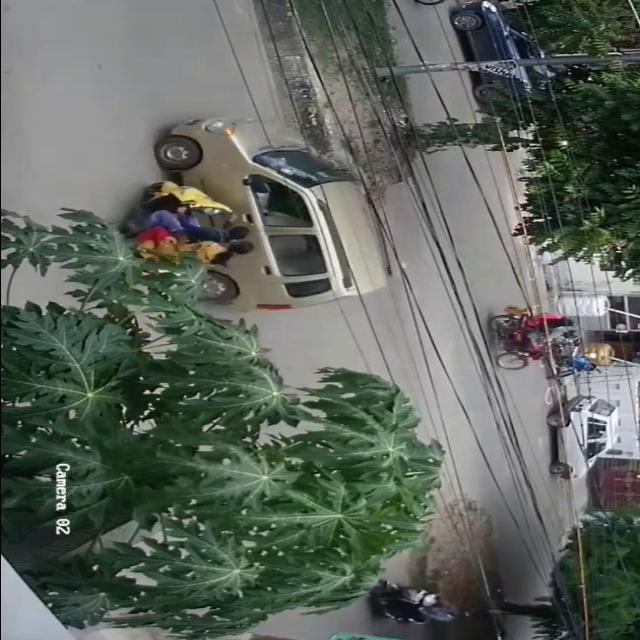accident: (113, 102, 395, 318)
